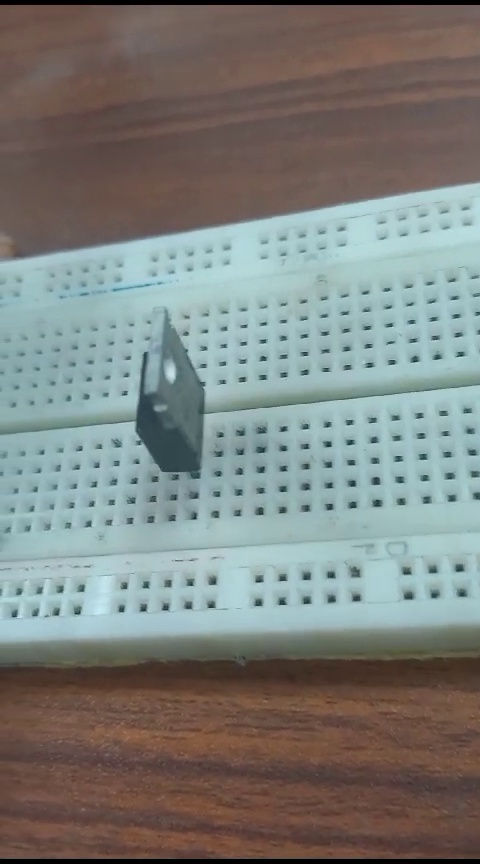voltage regulator: (117, 301, 225, 496)
